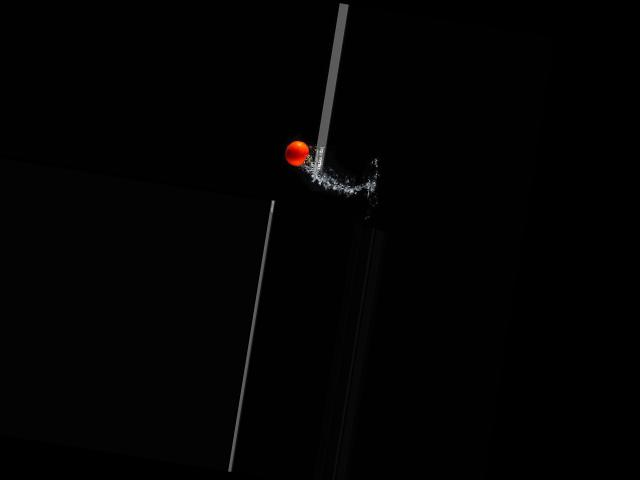tomato: (284, 138, 310, 167)
